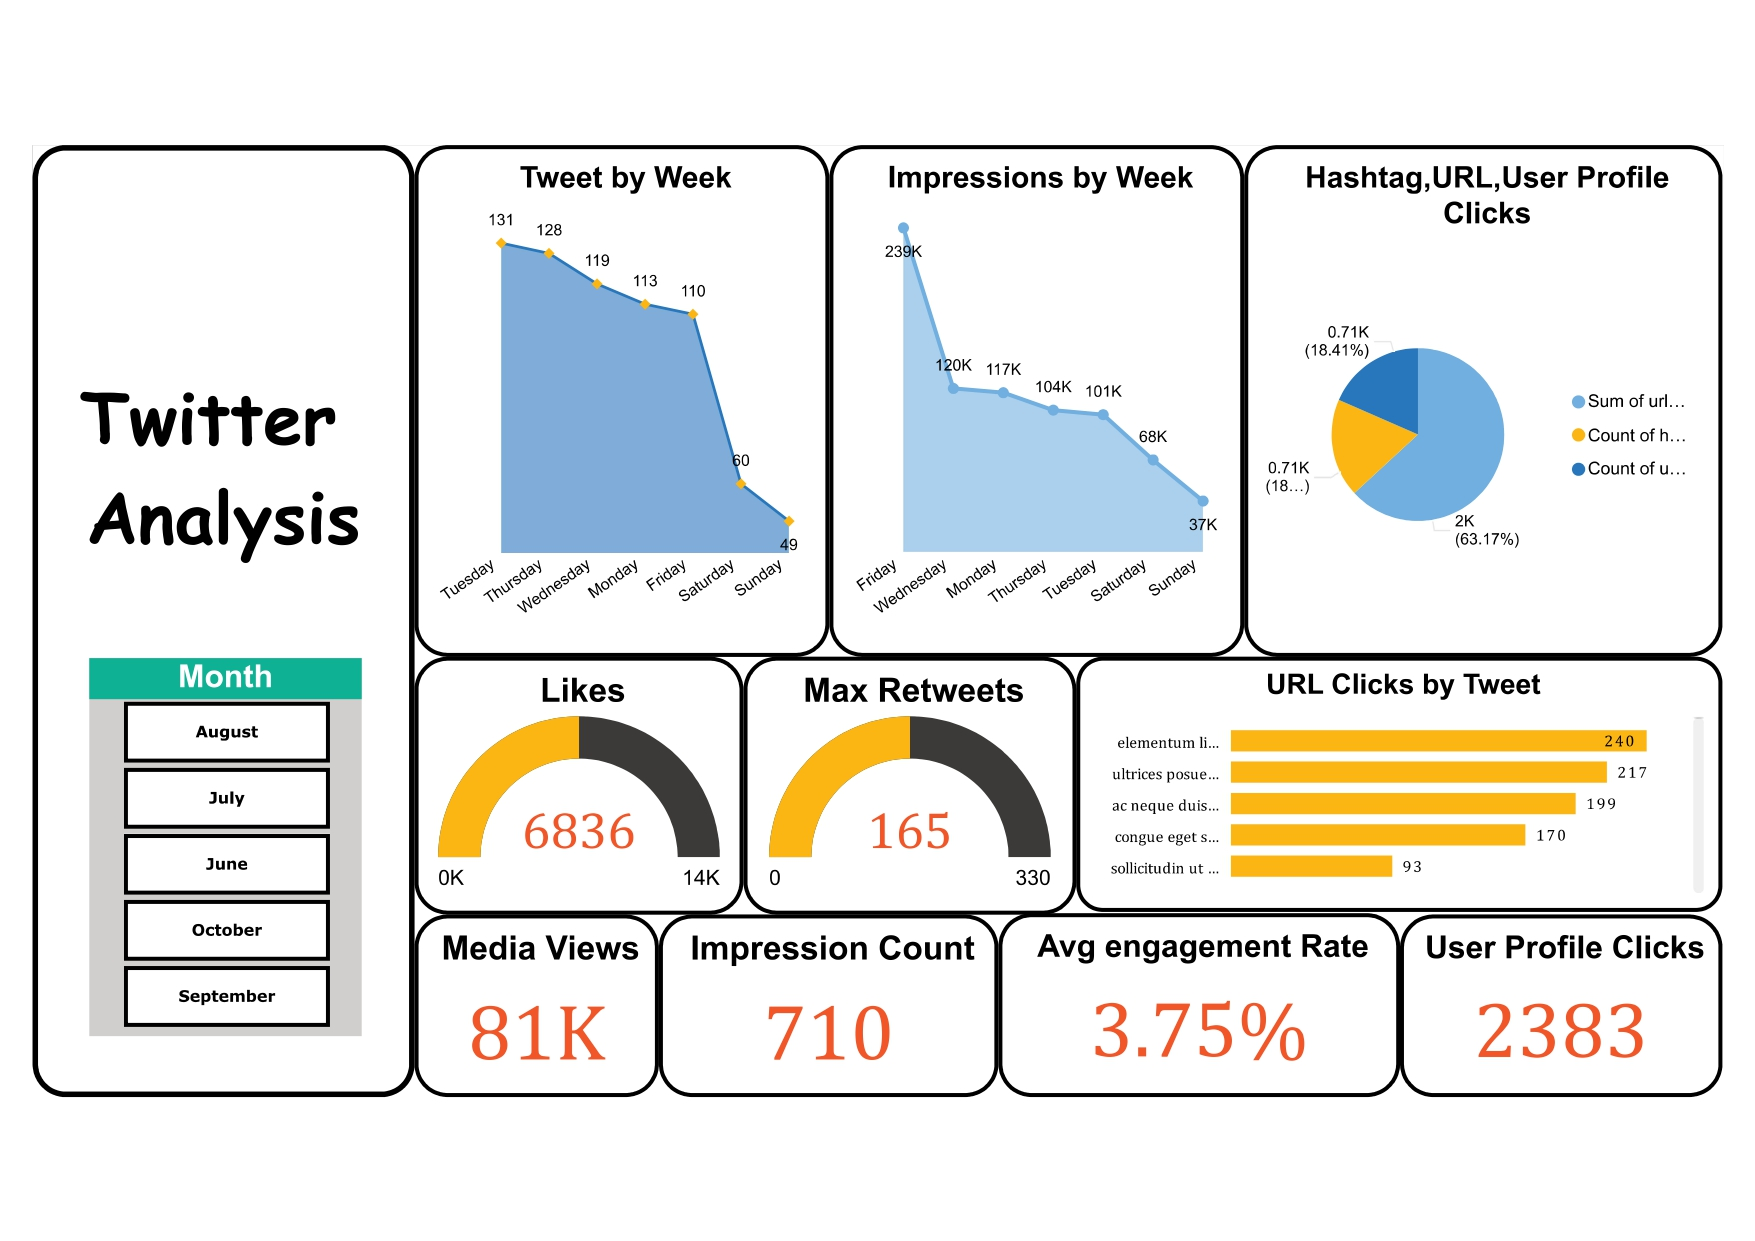

Layout of this report page (visuals, bound fields, positions):
{"tool":"powerbi","page":{"name":"Page 1","canvas":[1280,720],"ordinal":0},"visuals":[{"type":"textbox","box":[0,0,288.8,720],"z":0},{"type":"card","title":"Media Views","fields":{"Values":["Sum(SocialMedia.media views)"]},"box":[288.8,581.8,185.2,138.6],"z":1000},{"type":"card","title":"Impression Count","fields":{"Values":["CountNonNull(SocialMedia.impressions)"]},"box":[474,581.8,256.6,138.6],"z":2000},{"type":"card","title":"User Profile Clicks","fields":{"Values":["Sum(SocialMedia.user profile clicks)"]},"box":[1035.2,581.8,244.3,138.6],"z":4000},{"type":"gauge","title":"Likes","fields":{"Y":["Sum(SocialMedia.likes)"]},"box":[288.8,387,249.7,194.9],"z":5000},{"type":"card","title":"Avg engagement Rate","fields":{"Values":["Avg(SocialMedia.engagement rate)"]},"box":[730.6,581.4,304.6,138.6],"z":6000},{"type":"gauge","title":"Max Retweets","fields":{"Y":["Max(SocialMedia.retweets)"]},"box":[538.5,387,251.1,194.9],"z":7000},{"type":"slicer","title":"Month","fields":{"Values":["SocialMedia.MonthName"]},"box":[42.5,387.5,206.2,286.2],"z":8000},{"type":"lineChart","title":" Tweet by Week ","fields":{"Y":["CountNonNull(SocialMedia.Tweet)"],"Category":["SocialMedia.DayWeek "]},"box":[288.8,0,314.2,387],"z":9000},{"type":"lineChart","title":"Impressions by Week","fields":{"Category":["SocialMedia.DayWeek "],"Y":["Sum(SocialMedia.impressions)"]},"box":[603,0,314.2,387],"z":10000},{"type":"clusteredBarChart","title":"URL Clicks by Tweet","fields":{"Category":["SocialMedia.Tweet"],"Y":["Sum(SocialMedia.url clicks)"]},"box":[789.6,387,489.9,193.5],"z":11000},{"type":"pieChart","title":"Hashtag,URL,User Profile Clicks","fields":{"Y":["Sum(SocialMedia.url clicks)","CountNonNull(SocialMedia.hashtag clicks)","CountNonNull(SocialMedia.user profile clicks)"]},"box":[917.2,0,362.3,387],"z":12000}]}

Visuals, with their boxes in screenshot pixels (x1, y1, x2, y2):
textbox: (left=37, top=146, right=413, bottom=1085)
"Media Views" card: (left=413, top=905, right=655, bottom=1086)
"Impression Count" card: (left=655, top=905, right=989, bottom=1086)
"User Profile Clicks" card: (left=1387, top=905, right=1705, bottom=1086)
"Likes" gauge: (left=413, top=651, right=739, bottom=905)
"Avg engagement Rate" card: (left=989, top=905, right=1387, bottom=1085)
"Max Retweets" gauge: (left=739, top=651, right=1066, bottom=905)
"Month" slicer: (left=92, top=652, right=361, bottom=1025)
" Tweet by Week " lineChart: (left=413, top=146, right=823, bottom=651)
"Impressions by Week" lineChart: (left=823, top=146, right=1233, bottom=651)
"URL Clicks by Tweet" clusteredBarChart: (left=1066, top=651, right=1705, bottom=903)
"Hashtag,URL,User Profile Clicks" pieChart: (left=1233, top=146, right=1705, bottom=651)
